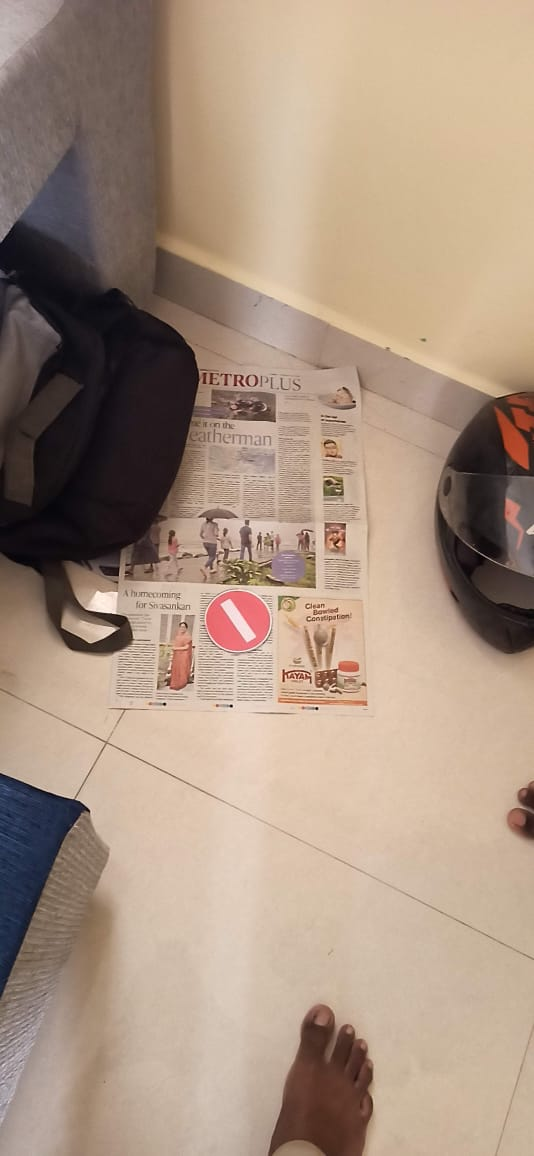NO ENTRY: (172, 588, 279, 663)
